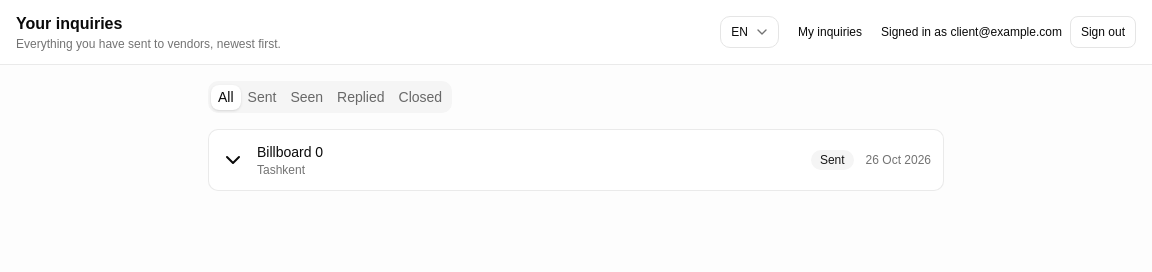
InquiryHistoryPage › empty states › says the filter is empty rather than the history, so nothing looks lost
This screenshot has width=1152, height=272.
Expected: the text "Billboard 0" is shown, [257,144,323,160]
Click the tab "Replied". click: (361, 97)
box: [330,84,392,110]
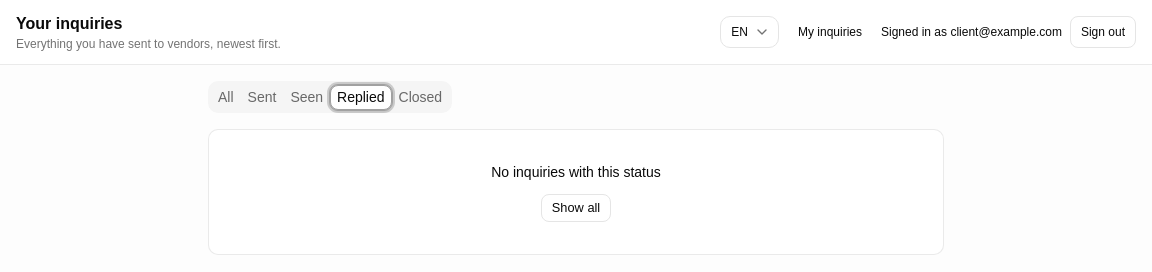
Result: the text "No inquiries with this status" is shown at [491,164,661,180]
